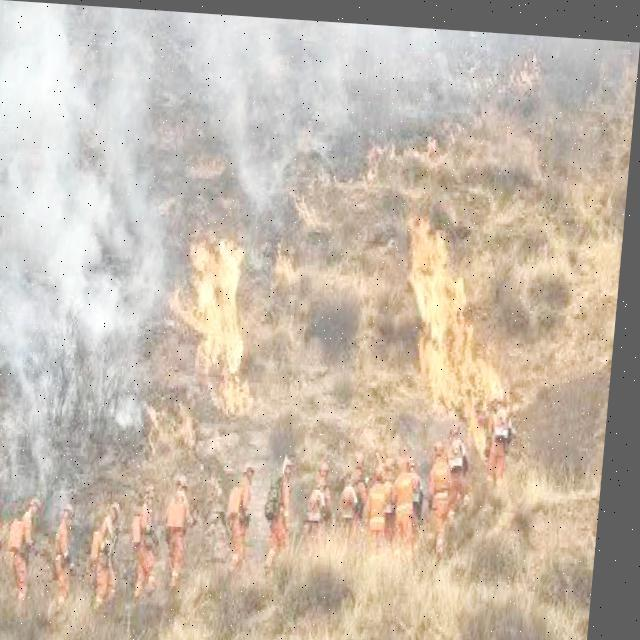Fire: (395, 206, 524, 434), (156, 230, 274, 448)
